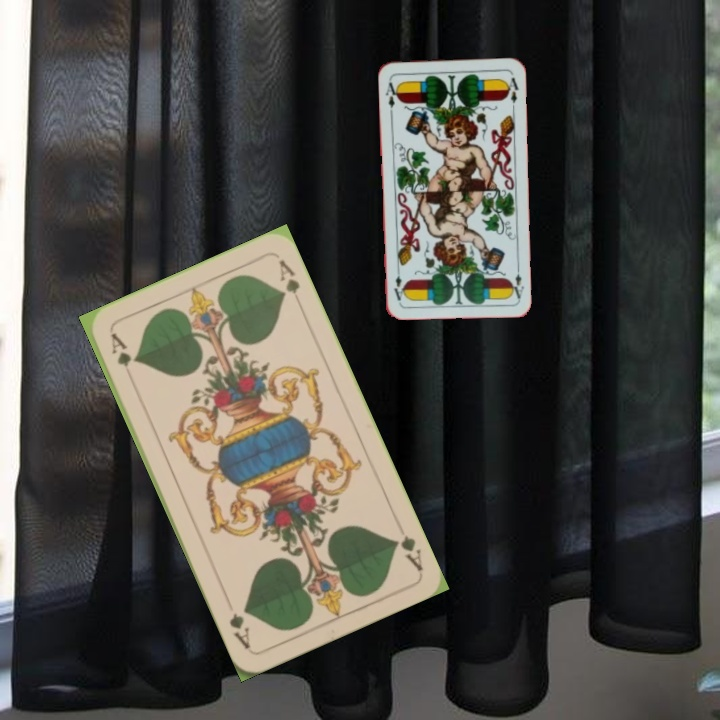EA: (507, 261, 526, 301), (381, 75, 401, 110)
GA: (389, 530, 426, 574), (106, 329, 134, 370)
